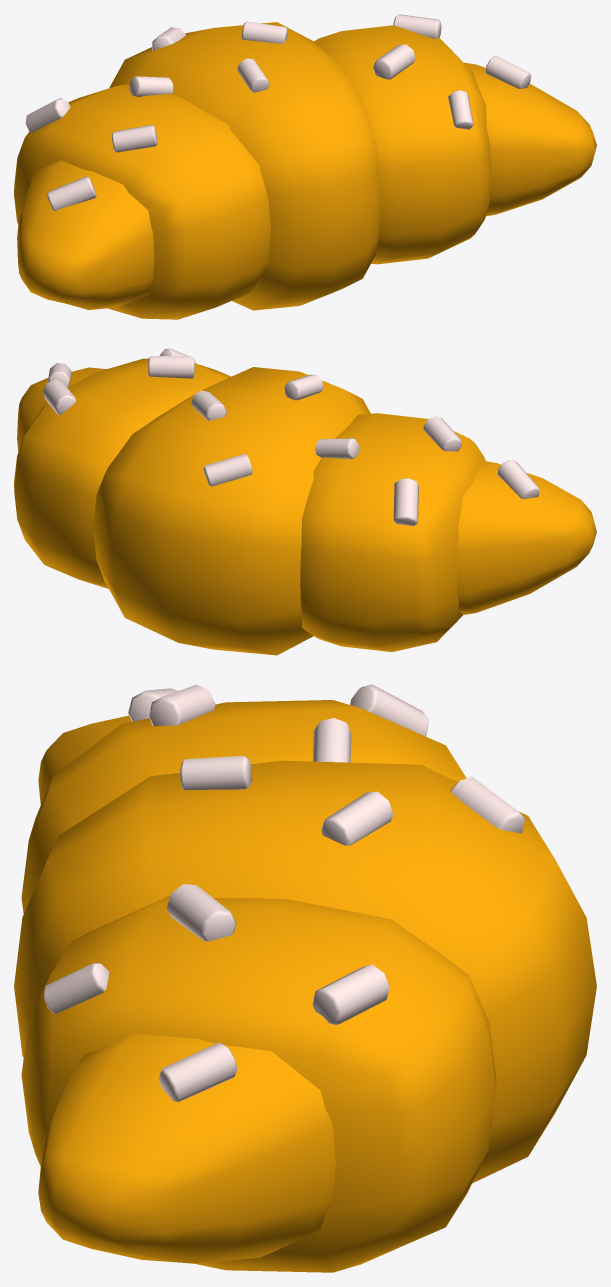
File: croissant.glb
3 renders of one model, top to bottom at view 1: azimuth 30°, elevation 25°; view 2: azimuth 150°, elevation 25°; view 3: azimuth 270°, elevation 25°, orthographic. The views are drawn at different scales.
Visible parts, largest first — view 1: Croissant; view 2: Croissant; view 3: Croissant.
Boxes of the visible parts, x1,y1,x2,y2 form: Croissant: (14,14,596,319); Croissant: (14,348,596,655); Croissant: (14,684,596,1272).
Size of the model in its own units: 0.3267 by 0.1305 by 0.1723.
1 material, 1 textured.
